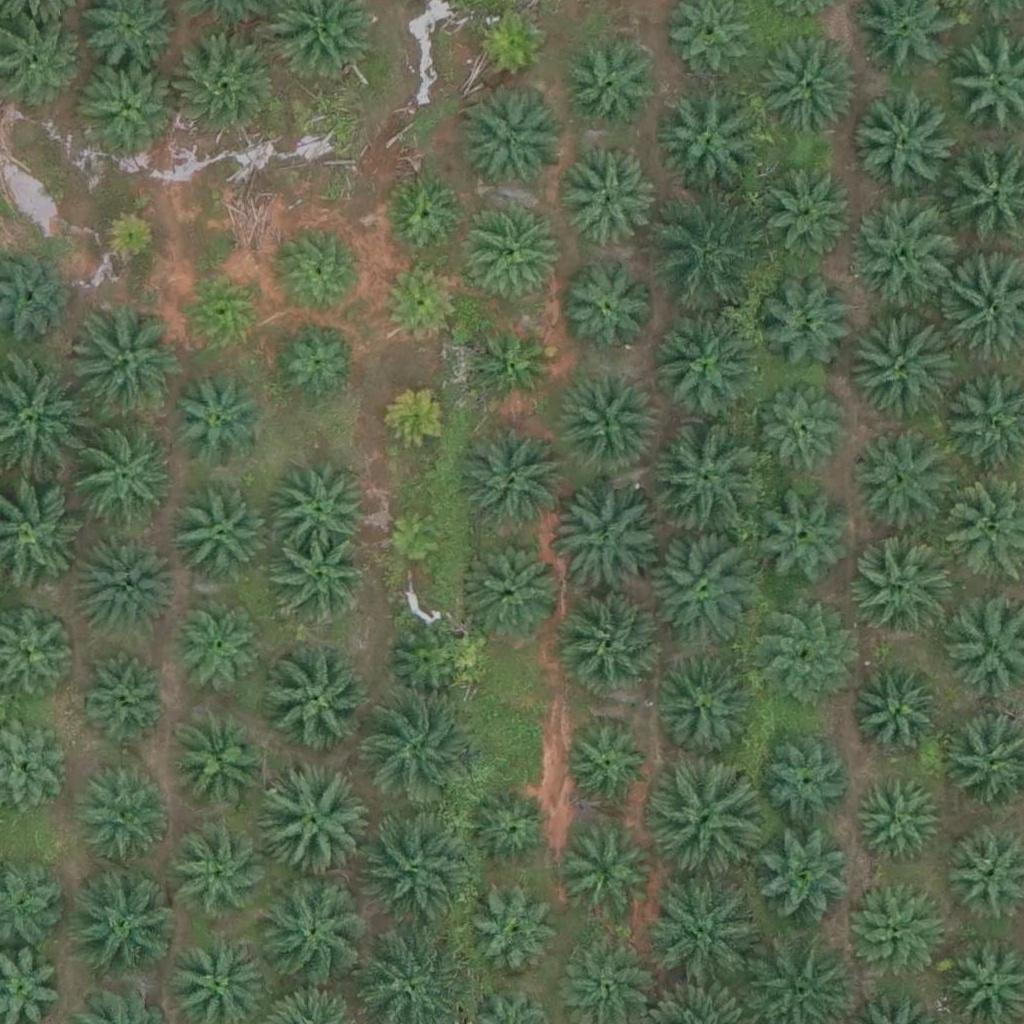Kelapa_Sawit: (649, 536, 762, 650), (456, 420, 569, 534), (363, 813, 476, 927), (260, 641, 373, 755), (652, 418, 765, 531), (649, 755, 762, 868), (554, 486, 667, 599), (253, 769, 366, 882), (847, 201, 960, 314), (650, 82, 763, 195), (651, 205, 764, 318), (846, 323, 958, 437), (166, 29, 278, 143), (648, 876, 760, 989), (366, 692, 478, 805), (256, 876, 368, 989), (69, 304, 181, 417), (851, 888, 951, 989), (749, 829, 849, 930), (655, 656, 755, 757), (555, 373, 655, 474), (568, 596, 668, 697), (469, 537, 569, 638), (269, 457, 369, 558), (163, 370, 263, 471), (170, 486, 270, 587), (170, 710, 270, 811), (172, 827, 272, 928), (76, 426, 176, 527), (73, 759, 173, 860), (72, 878, 172, 979), (757, 272, 857, 373), (561, 31, 661, 132), (561, 141, 661, 242), (554, 264, 654, 365), (459, 93, 559, 194), (458, 201, 558, 302), (857, 538, 957, 638), (751, 378, 851, 478), (72, 541, 172, 641), (851, 90, 951, 190), (659, 315, 759, 415), (761, 158, 861, 258), (760, 34, 860, 134), (82, 60, 182, 160), (852, 436, 951, 537), (173, 608, 261, 697), (852, 664, 940, 752), (853, 777, 941, 865), (758, 621, 846, 709), (757, 491, 845, 579), (472, 893, 560, 981), (386, 622, 474, 710), (278, 537, 366, 625), (78, 652, 166, 740), (277, 225, 365, 313), (277, 317, 365, 405), (375, 257, 463, 345), (383, 168, 471, 256), (564, 723, 651, 812), (765, 736, 852, 824), (568, 838, 655, 926), (467, 790, 554, 878), (178, 267, 265, 355), (468, 317, 555, 405), (380, 379, 455, 455), (95, 208, 158, 271), (385, 508, 447, 571)
